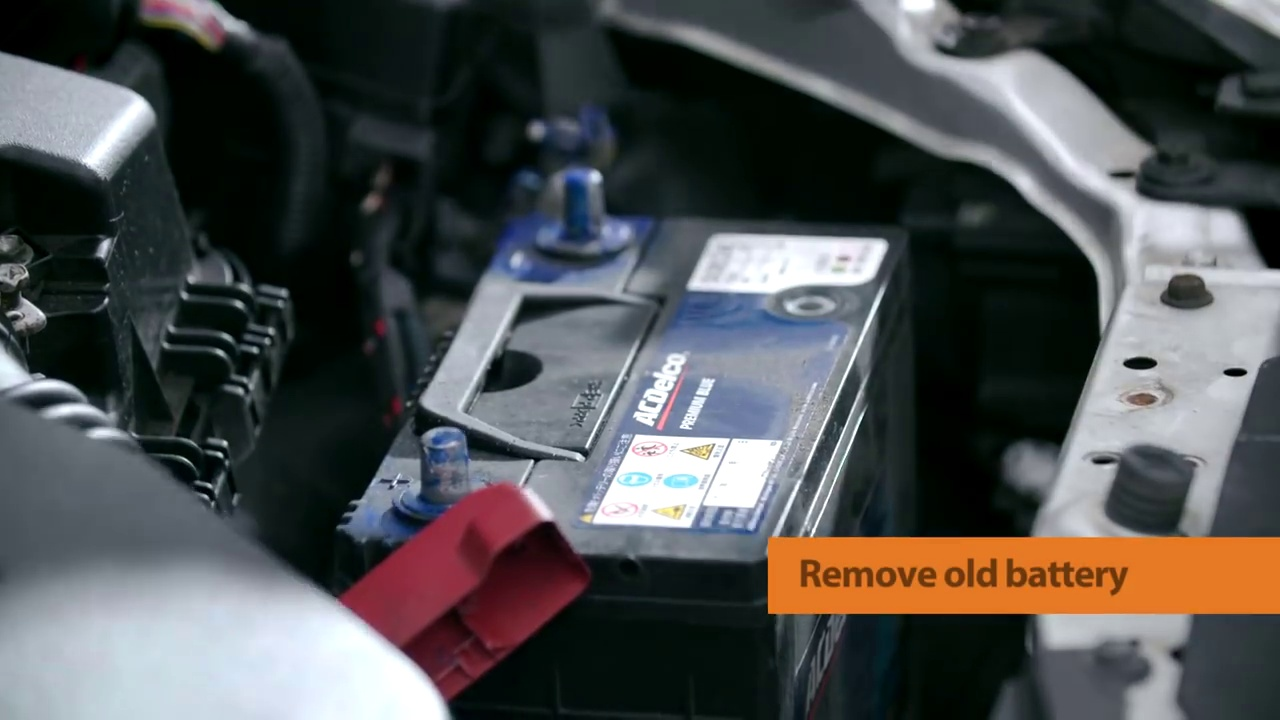battery: (333, 169, 898, 574)
neg_disconnected: (507, 164, 670, 276)
pos_disconnected: (351, 398, 581, 650)
